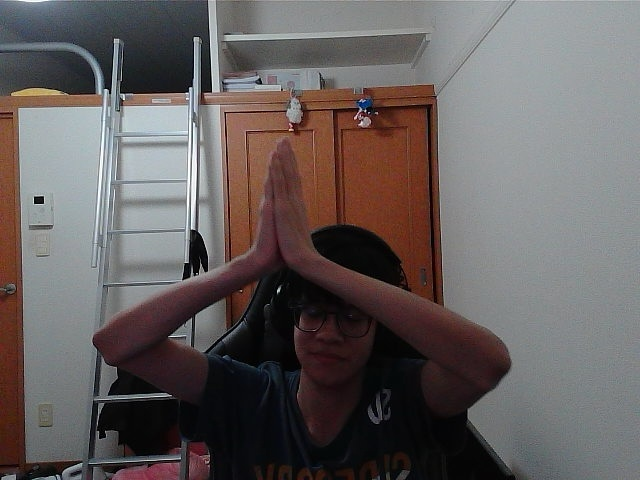pray: (271, 157, 306, 249)
